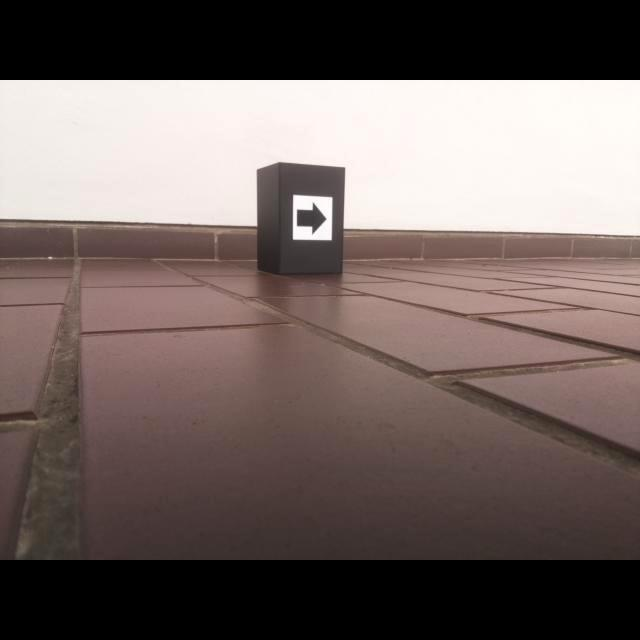RIGHT: (296, 199, 328, 236)
